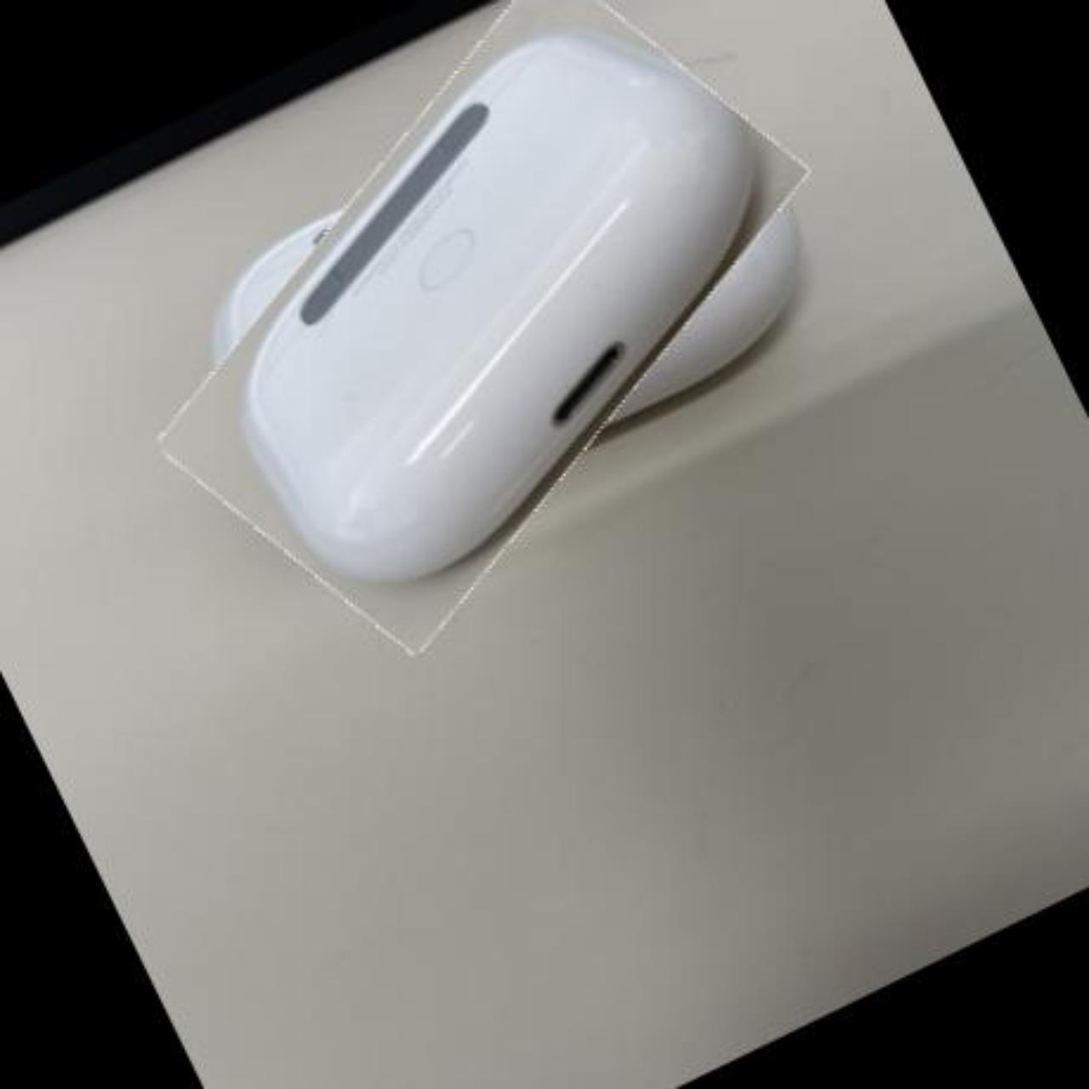AirPods: (83, 0, 880, 658)
